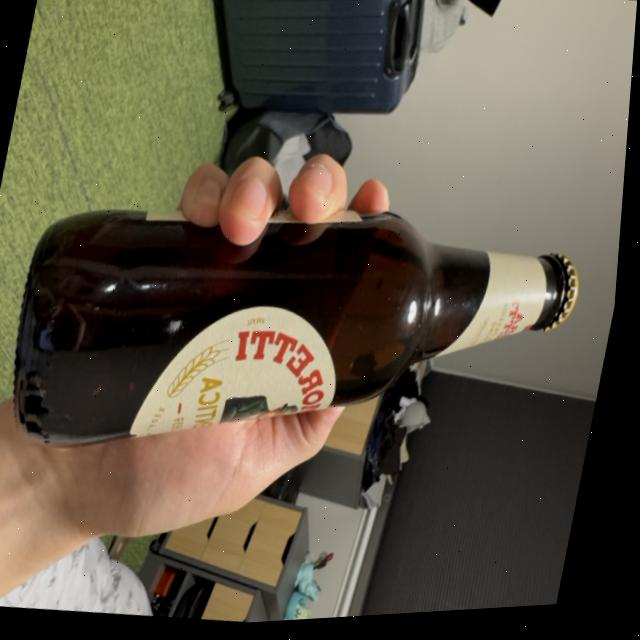beer: (0, 159, 606, 511)
